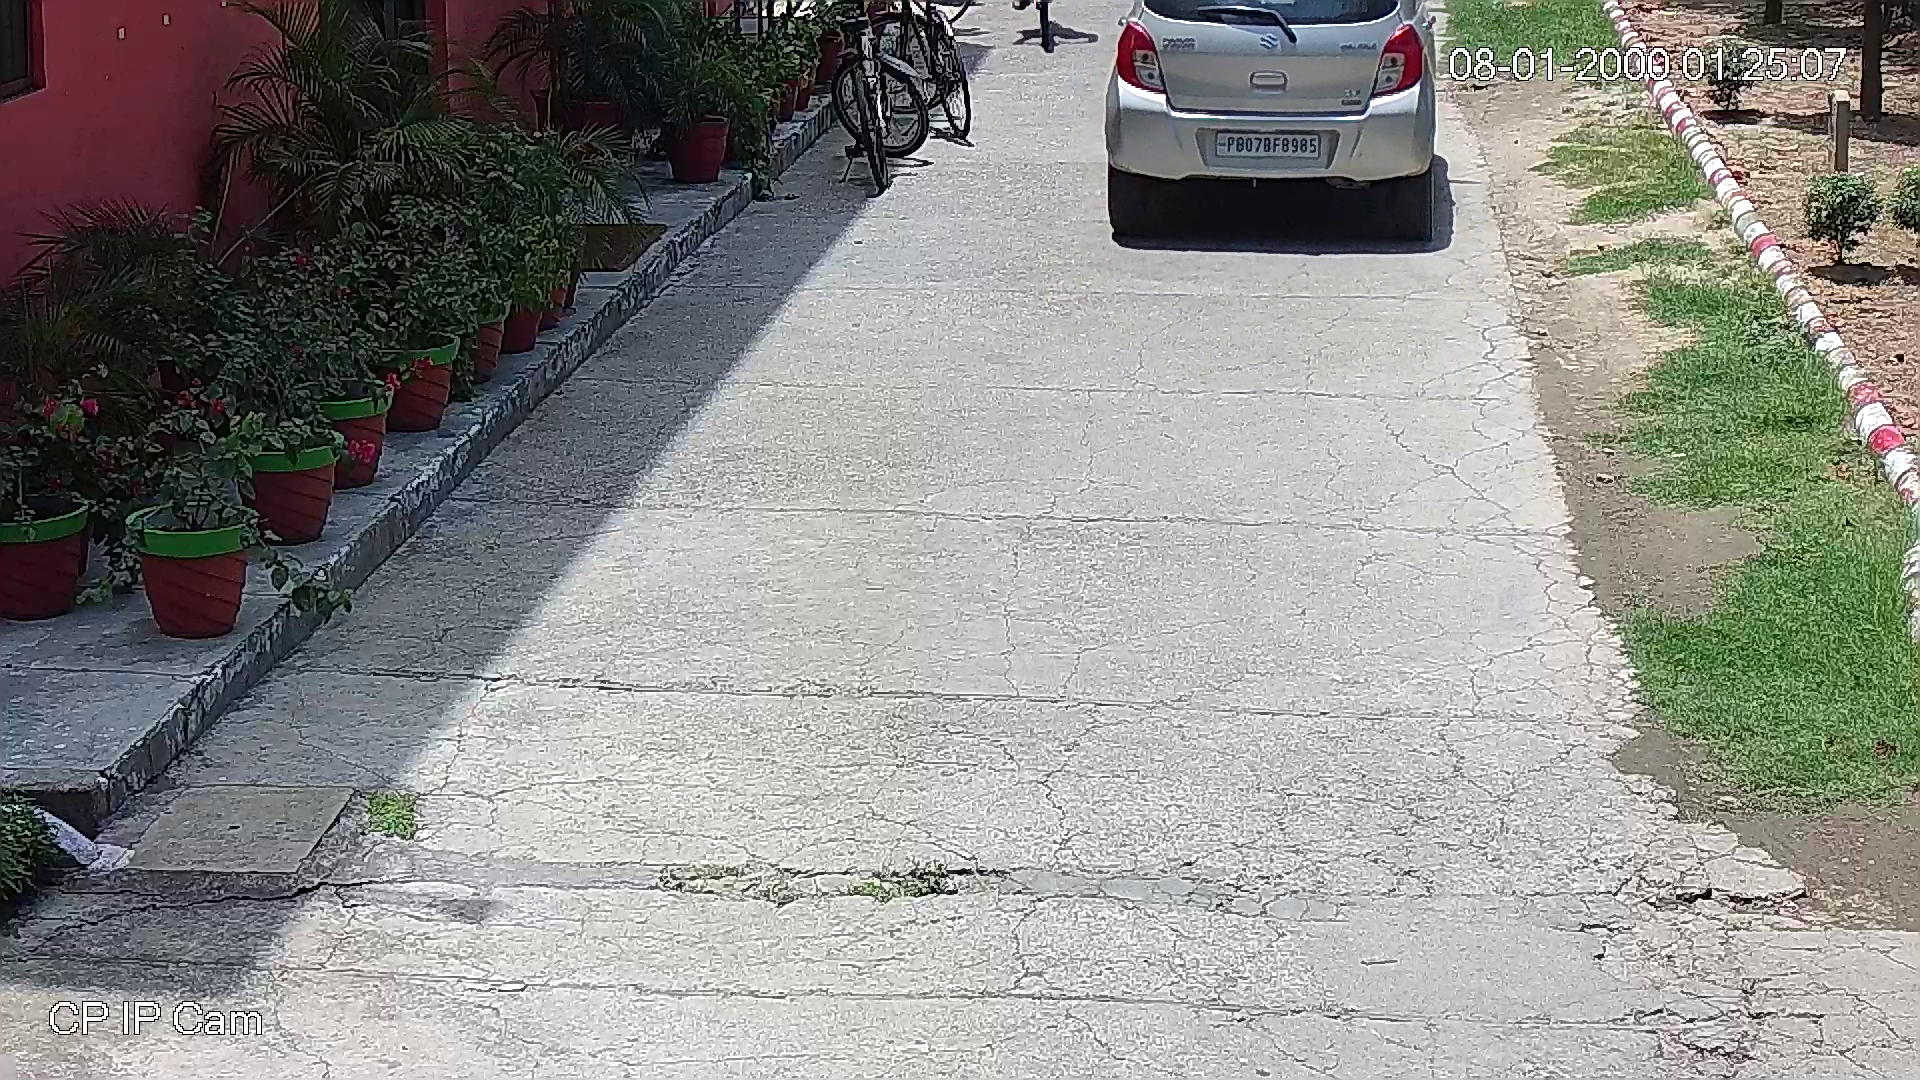plate: (1209, 128, 1329, 161)
